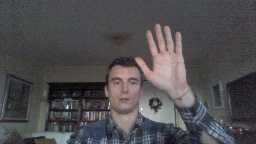Mano_aperta: (132, 22, 189, 97)
